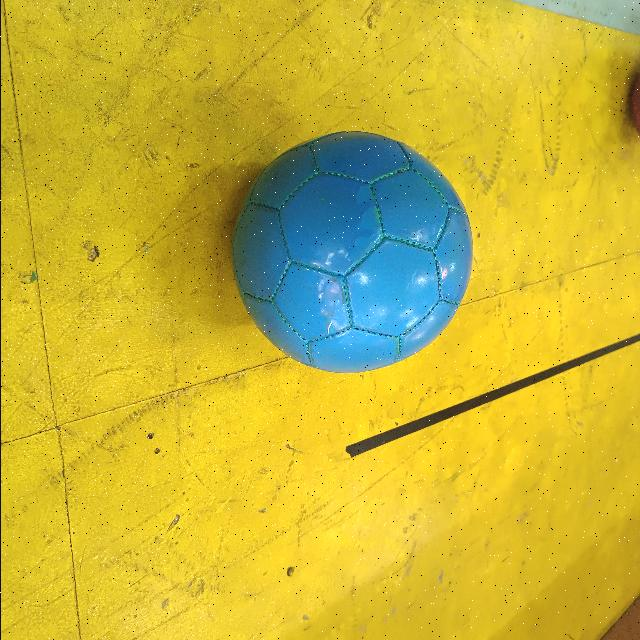B: (225, 128, 475, 378)
